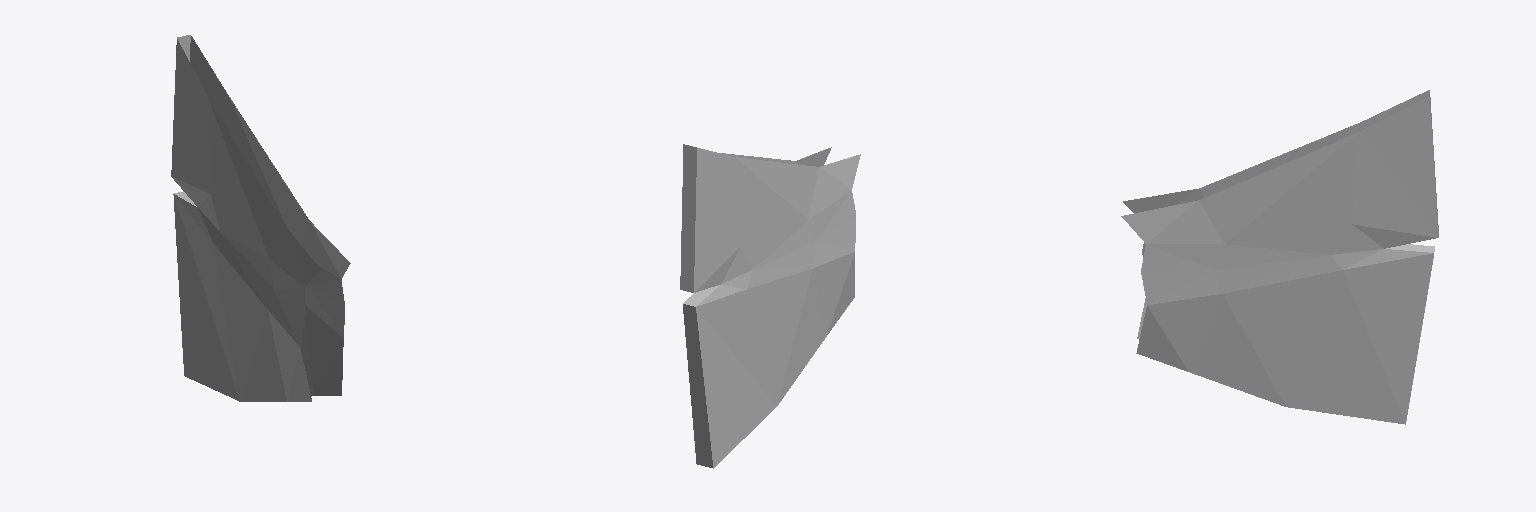
The model's file is PezC1.obj.
3 views of the same model, side by side, from view 1: azimuth 30°, elevation 25°; view 2: azimuth 150°, elevation 25°; view 3: azimuth 270°, elevation 25° (orthographic).
Visible parts, largest first — view 1: polySurface1 TropicalFish09:TropicalFish09; view 2: polySurface1 TropicalFish09:TropicalFish09; view 3: polySurface1 TropicalFish09:TropicalFish09.
Part boxes in pixels (bbox=[...]): polySurface1 TropicalFish09:TropicalFish09: bbox=[171, 35, 350, 401]; polySurface1 TropicalFish09:TropicalFish09: bbox=[680, 144, 860, 468]; polySurface1 TropicalFish09:TropicalFish09: bbox=[1121, 90, 1438, 424].
Size of the model in its own units: 0.3704 by 2.73 by 2.39.